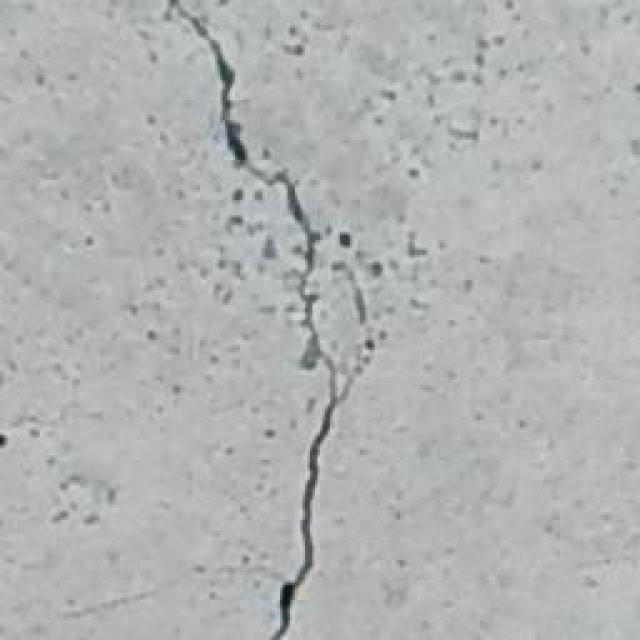concrete-crack: (158, 0, 375, 640)
